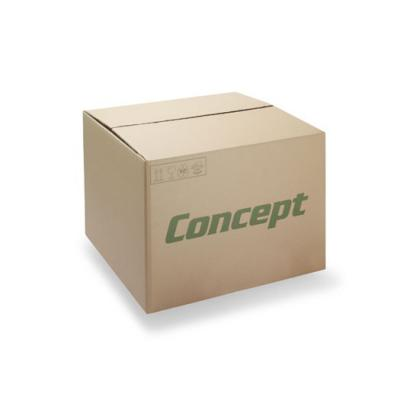box: (81, 89, 330, 315)
